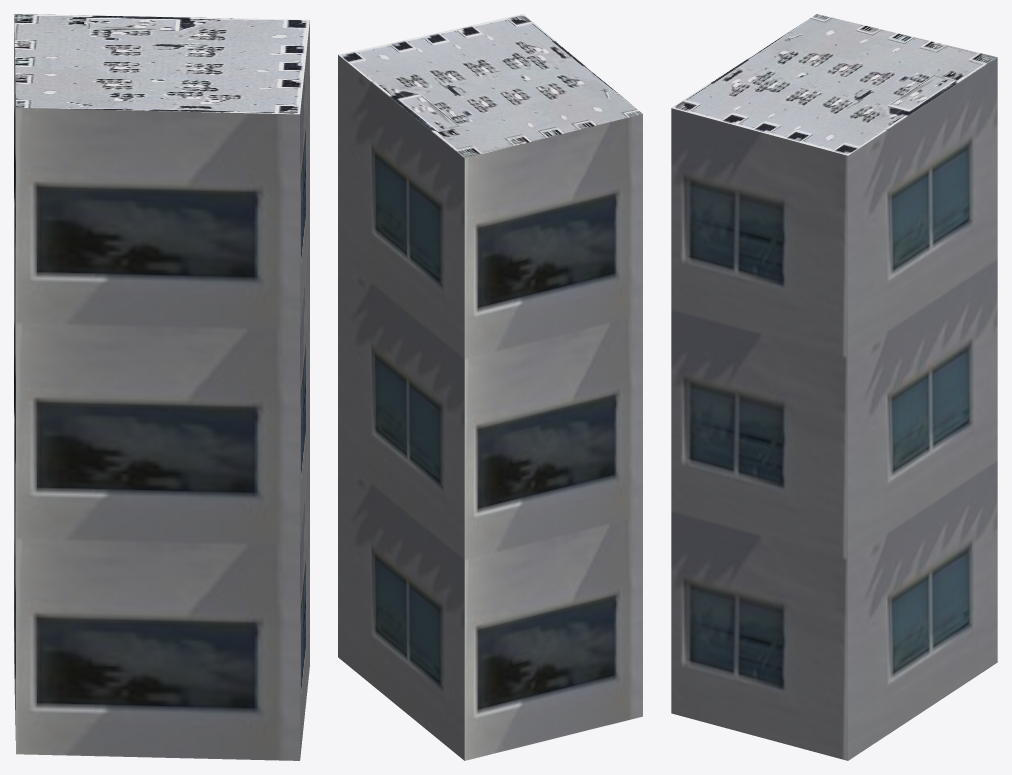
File: ResTex__820.fbx
The picture shows the model from 3 angles, left to right: view 1: azimuth 30°, elevation 25°; view 2: azimuth 150°, elevation 25°; view 3: azimuth 270°, elevation 25°; orthographic projection. The views are drawn at different scales.
Parts seen in each view (by area): view 1: CityEngineMaterial_10_m, CityEngineMaterial_m; view 2: CityEngineMaterial_10_m, CityEngineMaterial_m; view 3: CityEngineMaterial_10_m, CityEngineMaterial_m.
Part boxes in pixels (left/top/right/bottom): CityEngineMaterial_10_m: left=14, top=17, right=309, bottom=760; CityEngineMaterial_m: left=14, top=14, right=309, bottom=114; CityEngineMaterial_10_m: left=338, top=55, right=642, bottom=760; CityEngineMaterial_m: left=338, top=14, right=642, bottom=158; CityEngineMaterial_10_m: left=671, top=57, right=997, bottom=760; CityEngineMaterial_m: left=671, top=14, right=997, bottom=155.
Bounding box in the file's own units: 4.52 × 9 × 4.4.
Materials: 2 (2 with a texture image).
